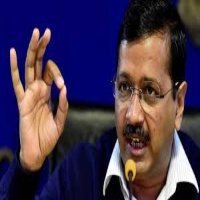ring: (26, 24, 42, 92)
